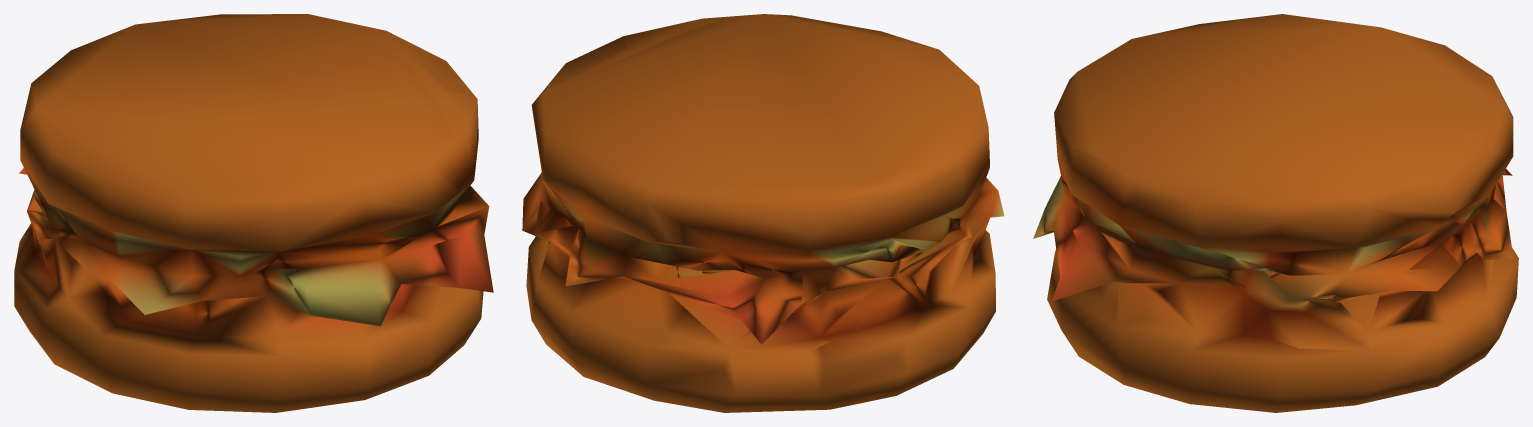
Rendered from gen3d-food-lod1.glb.
3 renders of one model, left to right at view 1: azimuth 30°, elevation 25°; view 2: azimuth 150°, elevation 25°; view 3: azimuth 270°, elevation 25°, orthographic.
Parts seen in each view (by area): view 1: part_0; view 2: part_0; view 3: part_0.
Boxes of the visible parts, x1,y1,x2,y2 form: part_0: (14,14,493,412); part_0: (522,14,1004,412); part_0: (1033,14,1518,412).
Bounding box in the file's own units: 1.91 × 0.9905 × 1.97.
